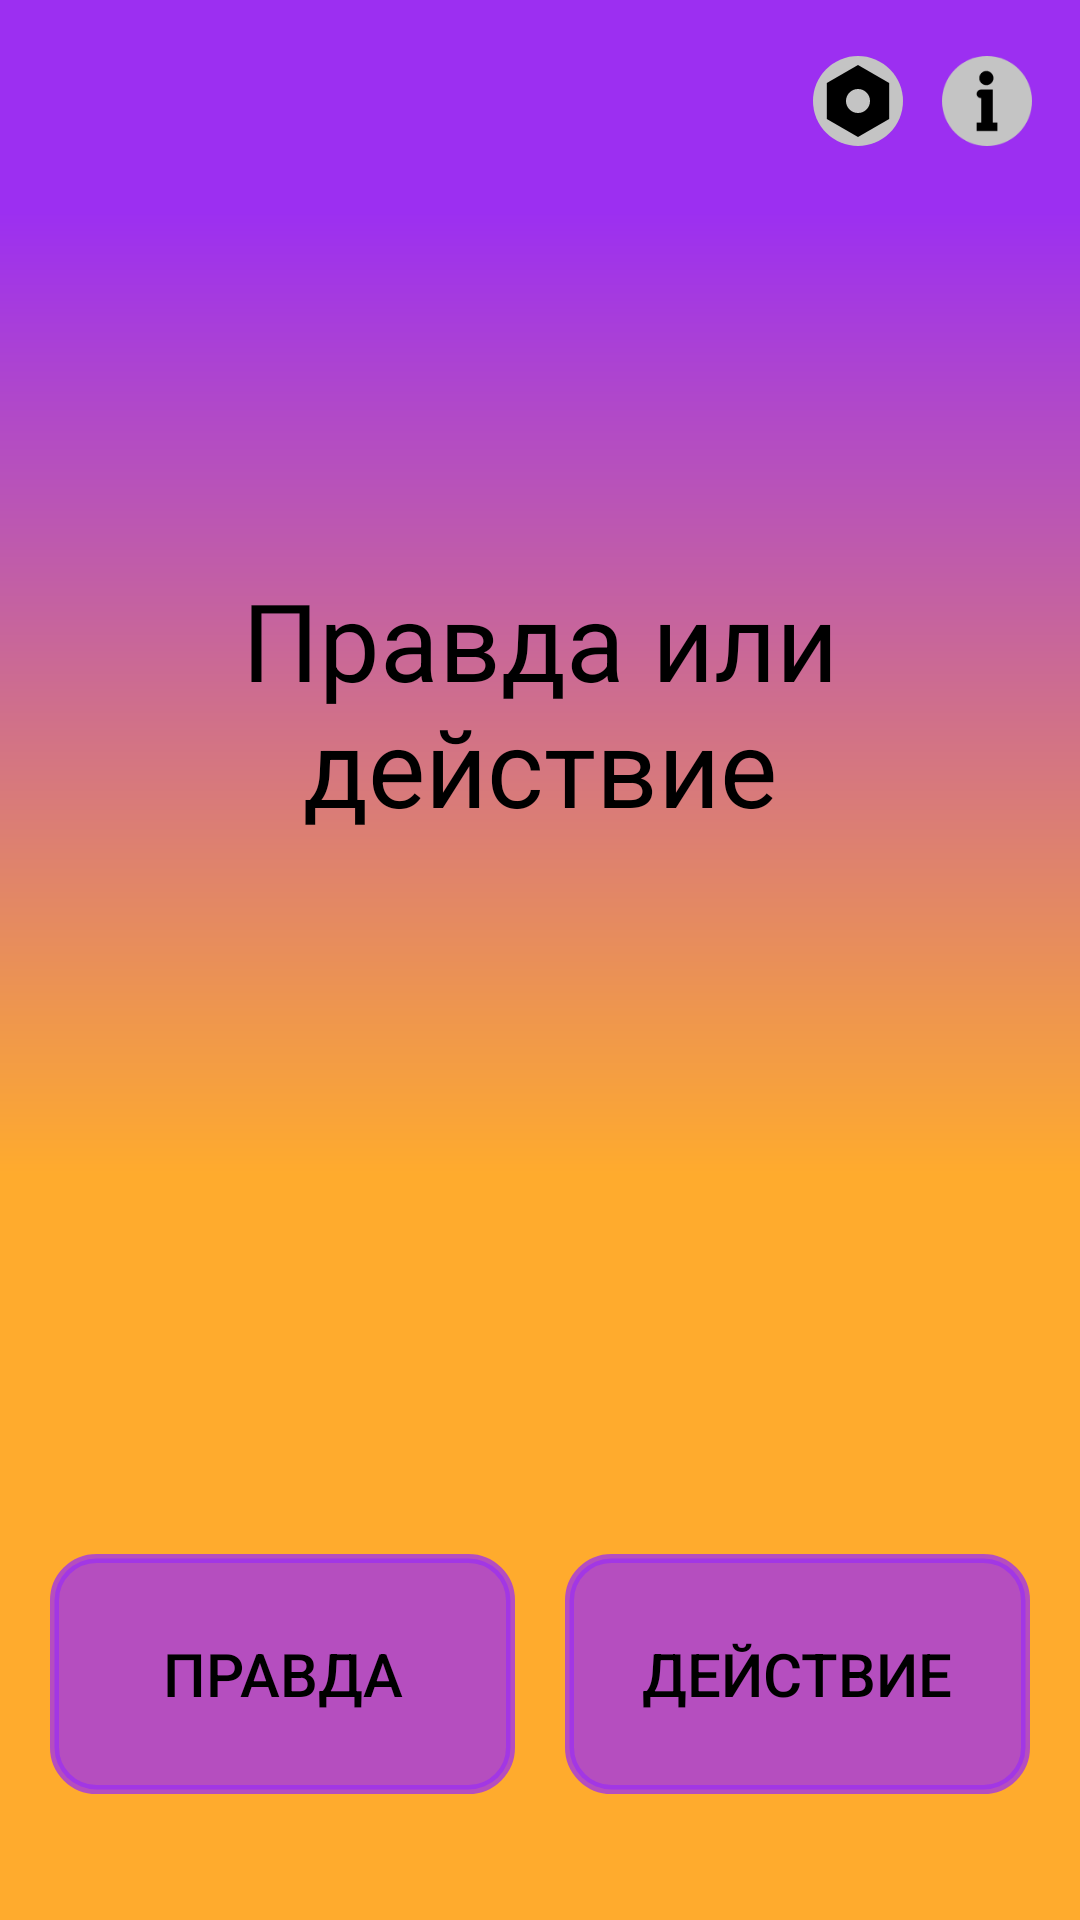

Icon click points for this 1080px x 1920px phone screenshot, format (x=x, y=y):
settings: (x=858, y=101)
